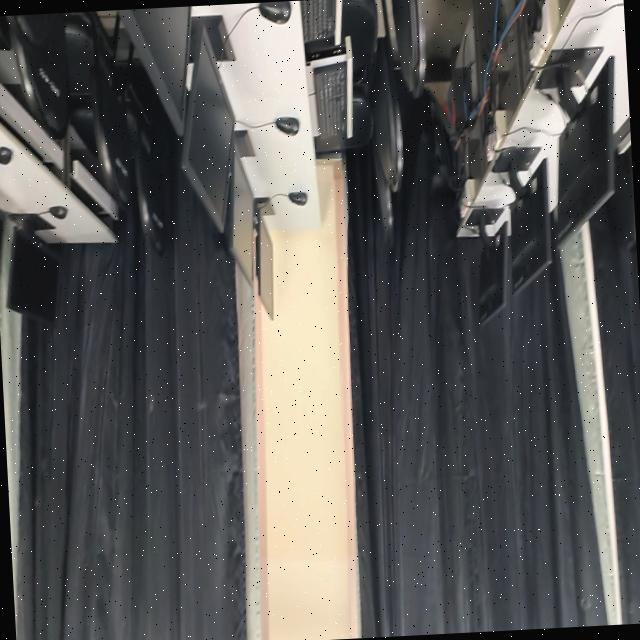Chair: (64, 11, 132, 205), (6, 13, 69, 141), (371, 38, 404, 193), (392, 0, 427, 98), (135, 146, 164, 255), (611, 148, 637, 250)
Keyboard: (316, 64, 347, 149), (302, 0, 336, 44)
Monitor: (554, 58, 615, 247), (182, 16, 235, 231), (118, 6, 190, 136), (511, 161, 552, 292), (8, 231, 59, 323), (224, 133, 254, 284), (479, 223, 511, 325), (257, 216, 274, 320)
Mouse: (259, 1, 292, 25), (276, 117, 299, 136), (49, 206, 68, 220), (289, 192, 308, 206), (0, 147, 13, 165)
